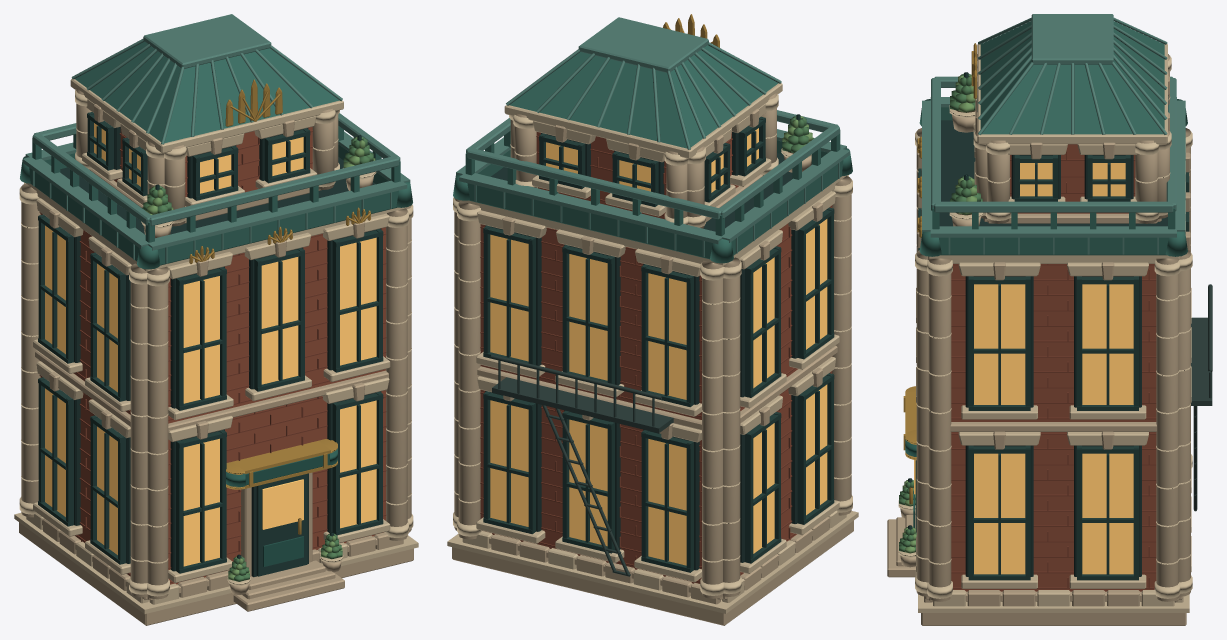
3 views of the same model, side by side, from view 1: azimuth 30°, elevation 25°; view 2: azimuth 150°, elevation 25°; view 3: azimuth 270°, elevation 25° (orthographic). The views are drawn at different scales.
Parts seen in each view (by area): view 1: expansion_villa_3_geometry; view 2: expansion_villa_3_geometry; view 3: expansion_villa_3_geometry.
Boxes of the visible parts, bbox=[...] form: expansion_villa_3_geometry: bbox=[14, 14, 418, 625]; expansion_villa_3_geometry: bbox=[447, 14, 858, 625]; expansion_villa_3_geometry: bbox=[887, 14, 1212, 625].
Size of the model in its own units: 0.99 by 1.69 by 0.9552.
